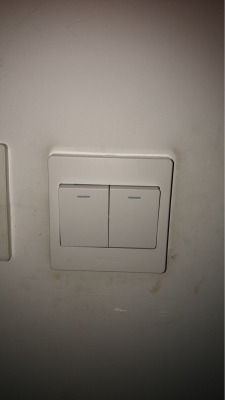switch: (101, 181, 165, 253), (54, 178, 115, 252)
